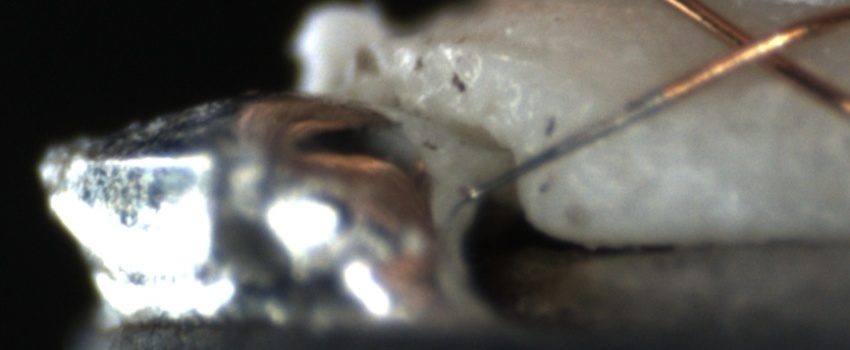CL: (707, 18, 804, 78)
TS: (467, 89, 664, 198)
TTCW: (464, 59, 719, 206)
